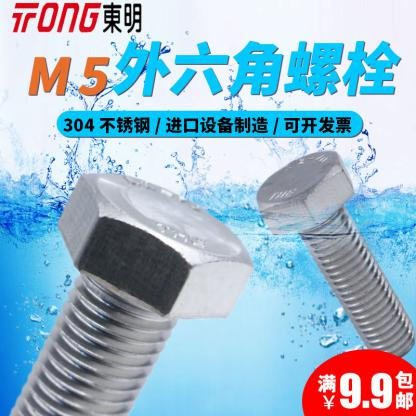FOD: (0, 169, 255, 415), (255, 148, 414, 368)
